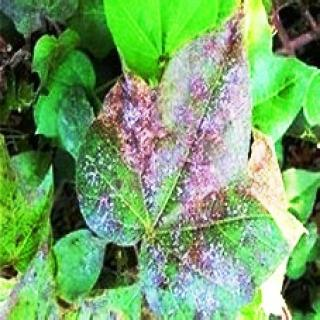grey mildew: (76, 9, 290, 319)
